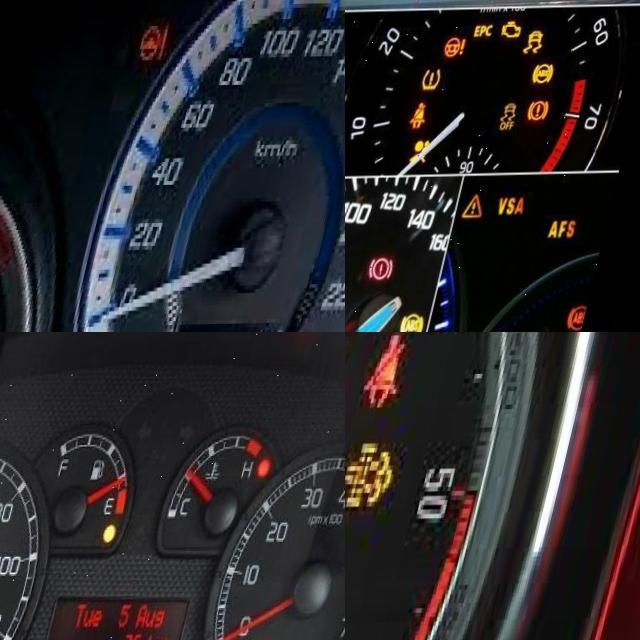Electronic Power Steering: (137, 21, 182, 66), (345, 359, 357, 424)
Electronic Power Steering Warning: (453, 39, 477, 59)
Seat Belt: (376, 333, 423, 408), (422, 105, 441, 131)
